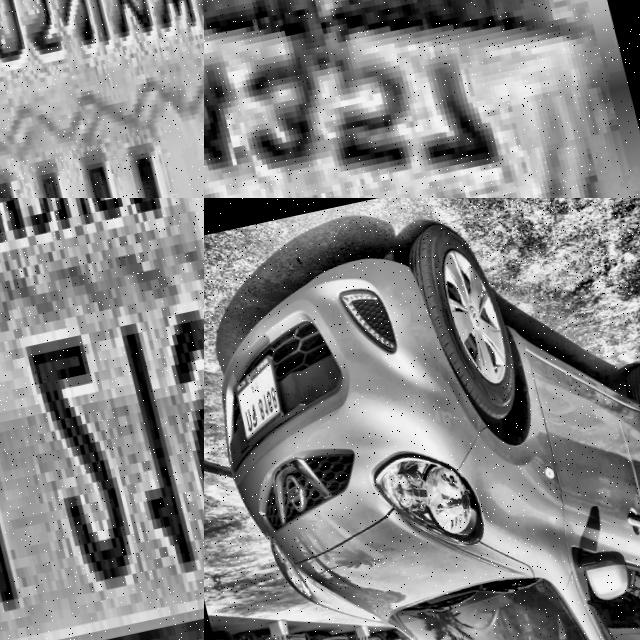license-plate: (0, 198, 204, 640), (204, 0, 640, 198), (0, 0, 204, 198), (224, 346, 289, 446), (401, 638, 409, 640)
